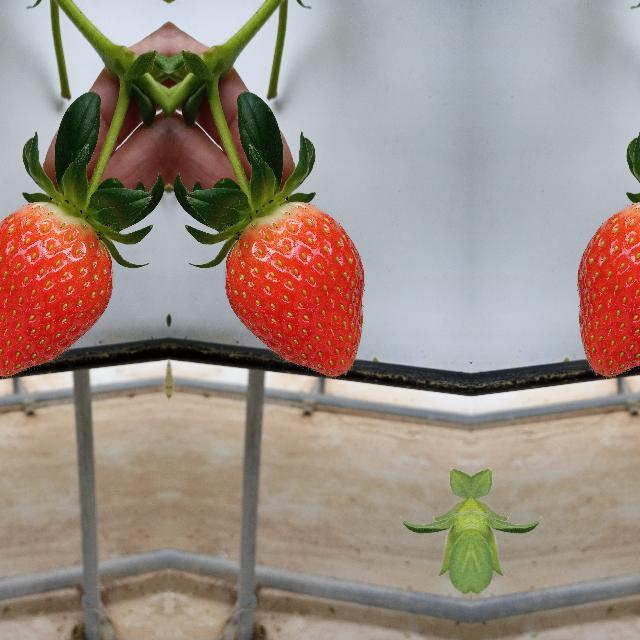Health_100: (223, 200, 365, 378), (0, 200, 113, 377), (576, 200, 640, 377)
